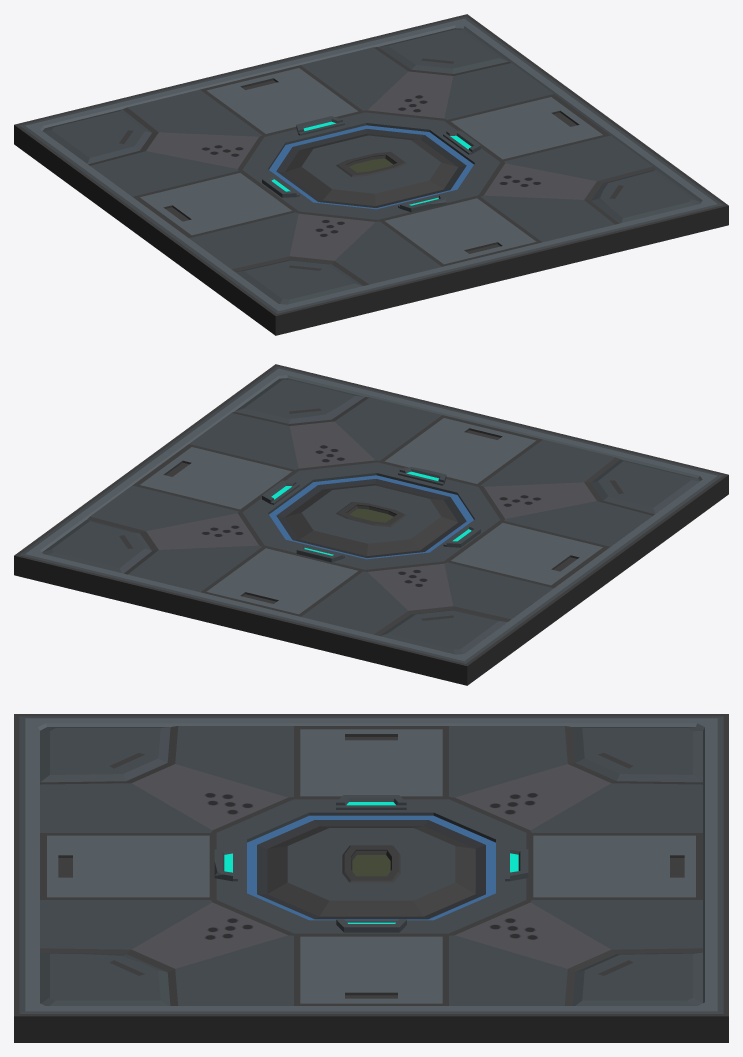
Rendered from SM_Bld_Floor_07.fbx.
The picture shows the model from 3 angles, top to bottom: view 1: azimuth 30°, elevation 25°; view 2: azimuth 150°, elevation 25°; view 3: azimuth 270°, elevation 25°; orthographic projection. The views are drawn at different scales.
Parts seen in each view (by area): view 1: SM_Bld_Floor_07; view 2: SM_Bld_Floor_07; view 3: SM_Bld_Floor_07.
Part boxes in pixels (x1,y1,x2,y2): SM_Bld_Floor_07: (14, 14, 728, 335); SM_Bld_Floor_07: (14, 364, 728, 685); SM_Bld_Floor_07: (14, 714, 728, 1042).
Bounding box in the file's own units: 500 × 23.72 × 500.
1 material, 1 textured.
